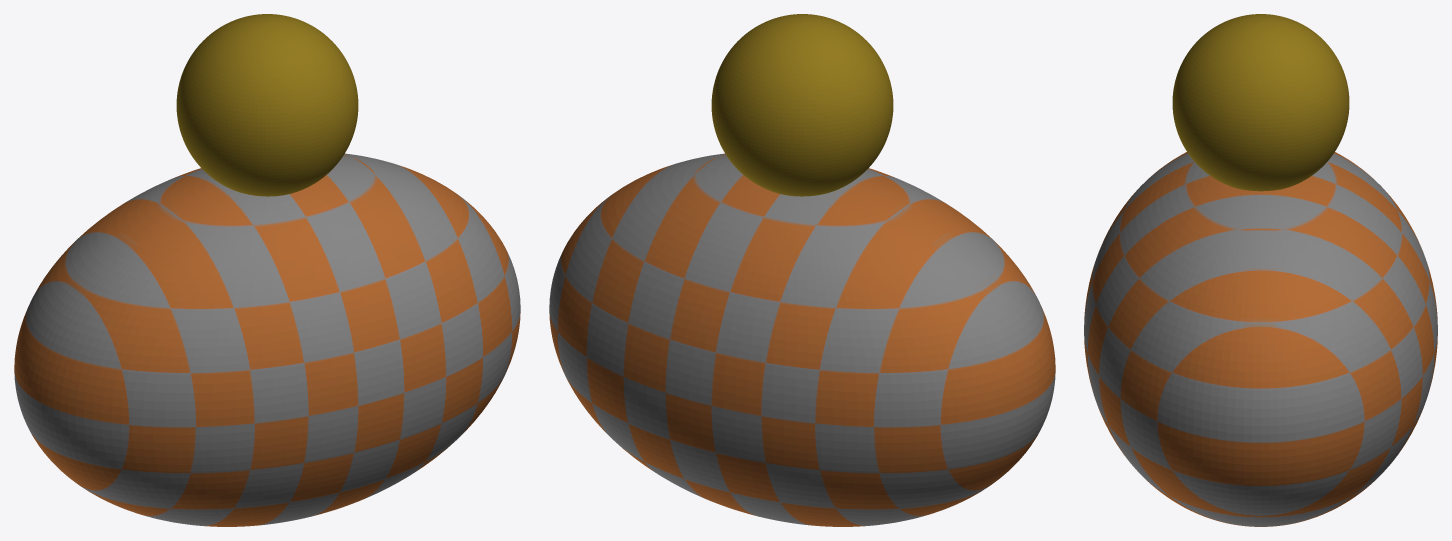
The model's file is BOD1_BMC3_BCC0_BPT4_FRC0_HEA0_HMC4_HCC0_HPT0_ELT0_ERT0_ELL0_ERL0_AP0_AAL0_AAR0_BEK0.fbx.
3 views of the same model, side by side, from view 1: azimuth 30°, elevation 25°; view 2: azimuth 150°, elevation 25°; view 3: azimuth 270°, elevation 25° (orthographic). The views are drawn at different scales.
Parts seen in each view (by area): view 1: Body, Head; view 2: Body, Head; view 3: Body, Head.
Part boxes in pixels (bbox=[...]): Body: bbox=[14, 153, 520, 526]; Head: bbox=[176, 14, 358, 196]; Body: bbox=[549, 153, 1055, 526]; Head: bbox=[711, 14, 893, 196]; Body: bbox=[1084, 152, 1437, 526]; Head: bbox=[1172, 14, 1349, 191].
Bounding box in the file's own units: 148 × 145 × 98.72.
2 materials, 2 textured.
